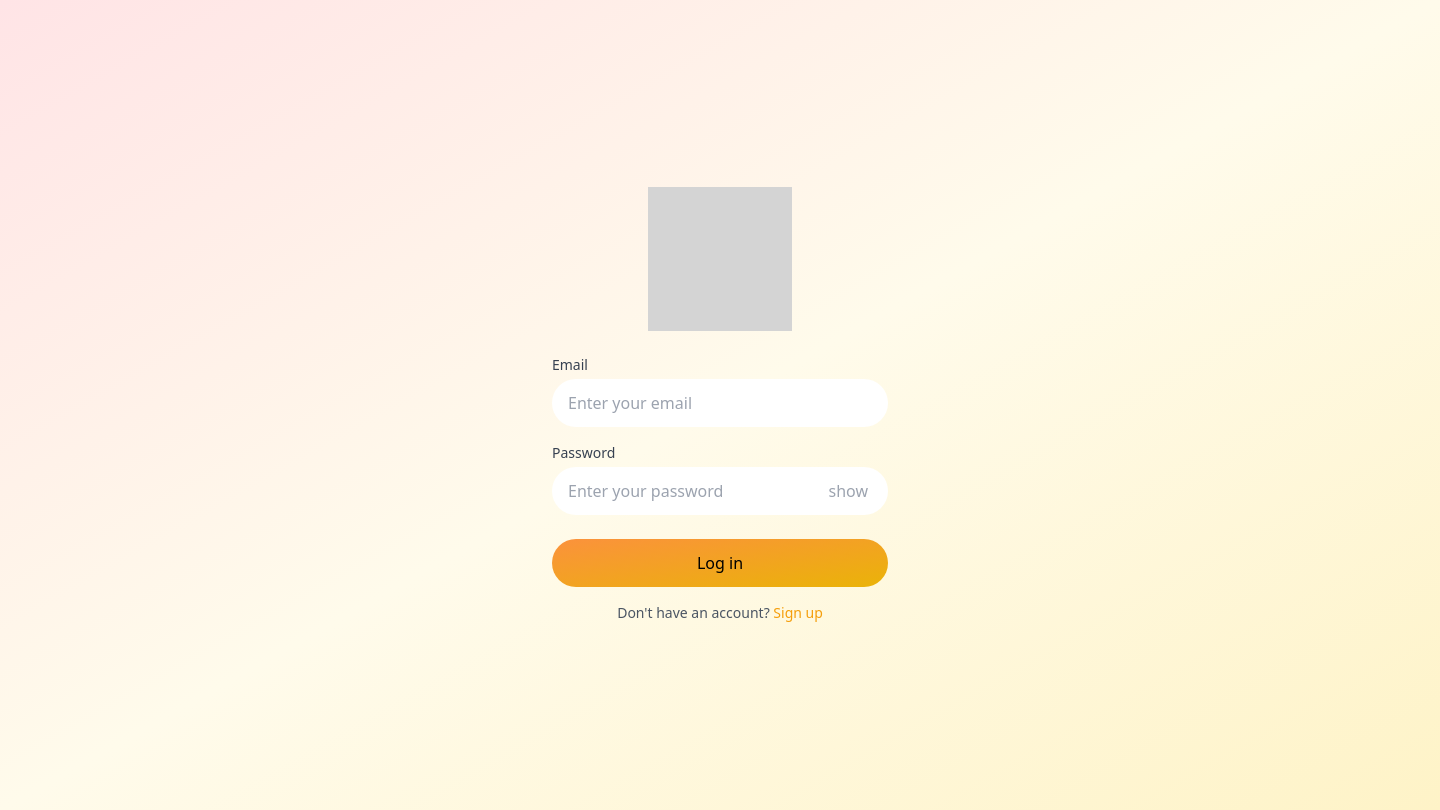
Test: LoginPage › Form Input Handling › should clear email error when user types after error
// Submit empty form to trigger error
Click the button "Log in" at (720, 563), box [552,539,888,587]
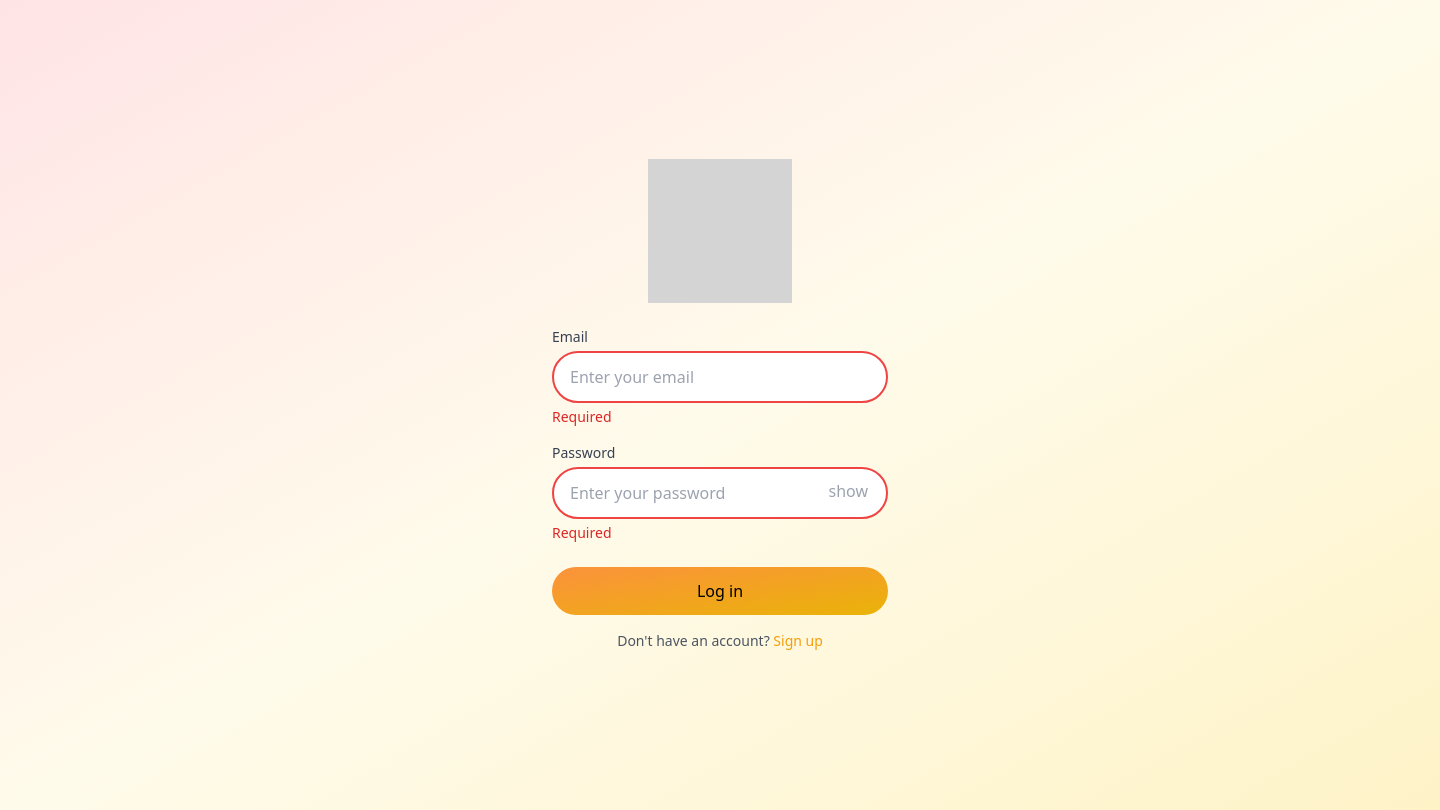
Now the text "Required" is shown 2 times, box [552,407,612,426]; [552,523,612,542]
// Type in email field
Type "test@example.com" into the field with placeholder "Enter your email" at (720, 377), box [552,351,888,403]
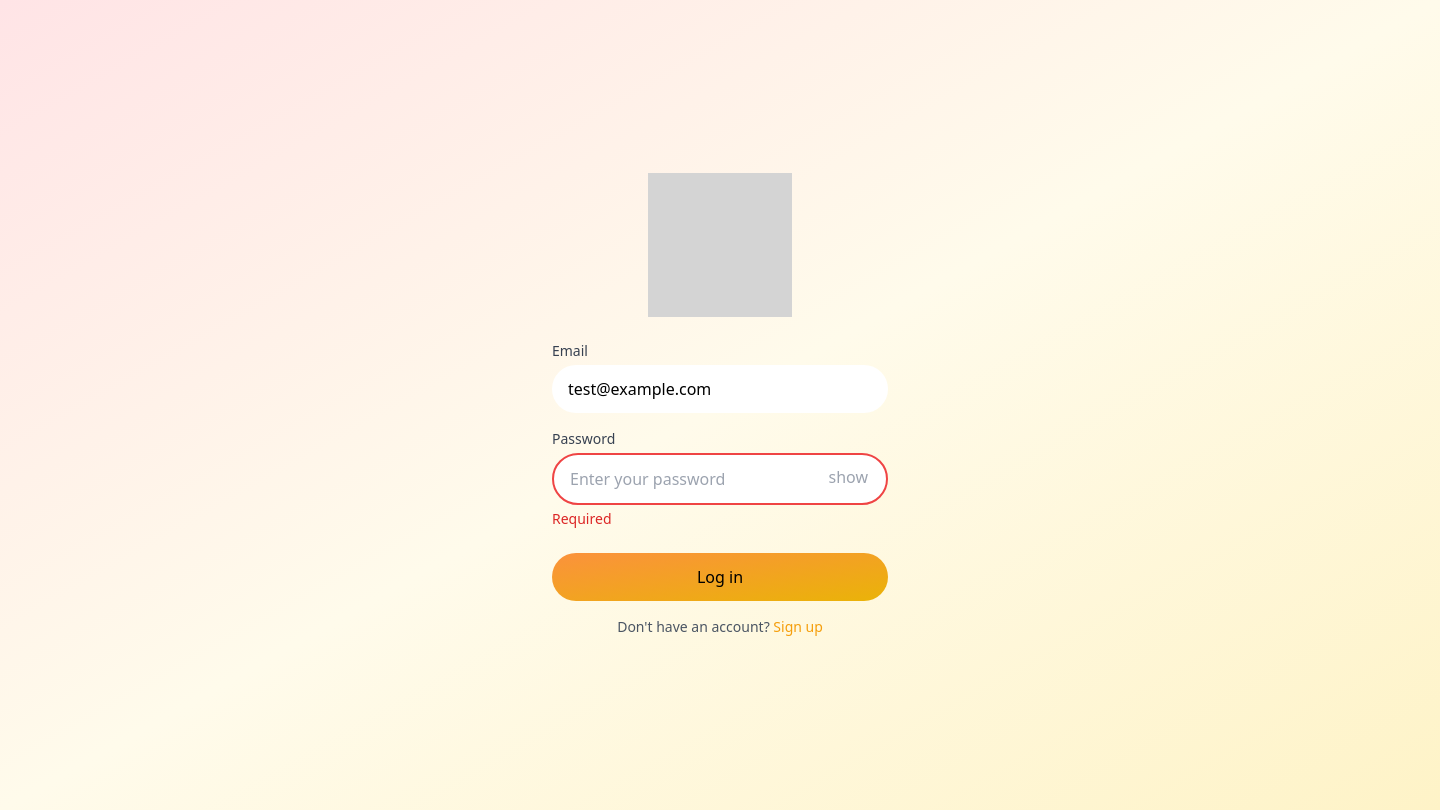
Now the text "Required" is shown once, box [552,509,612,528]
